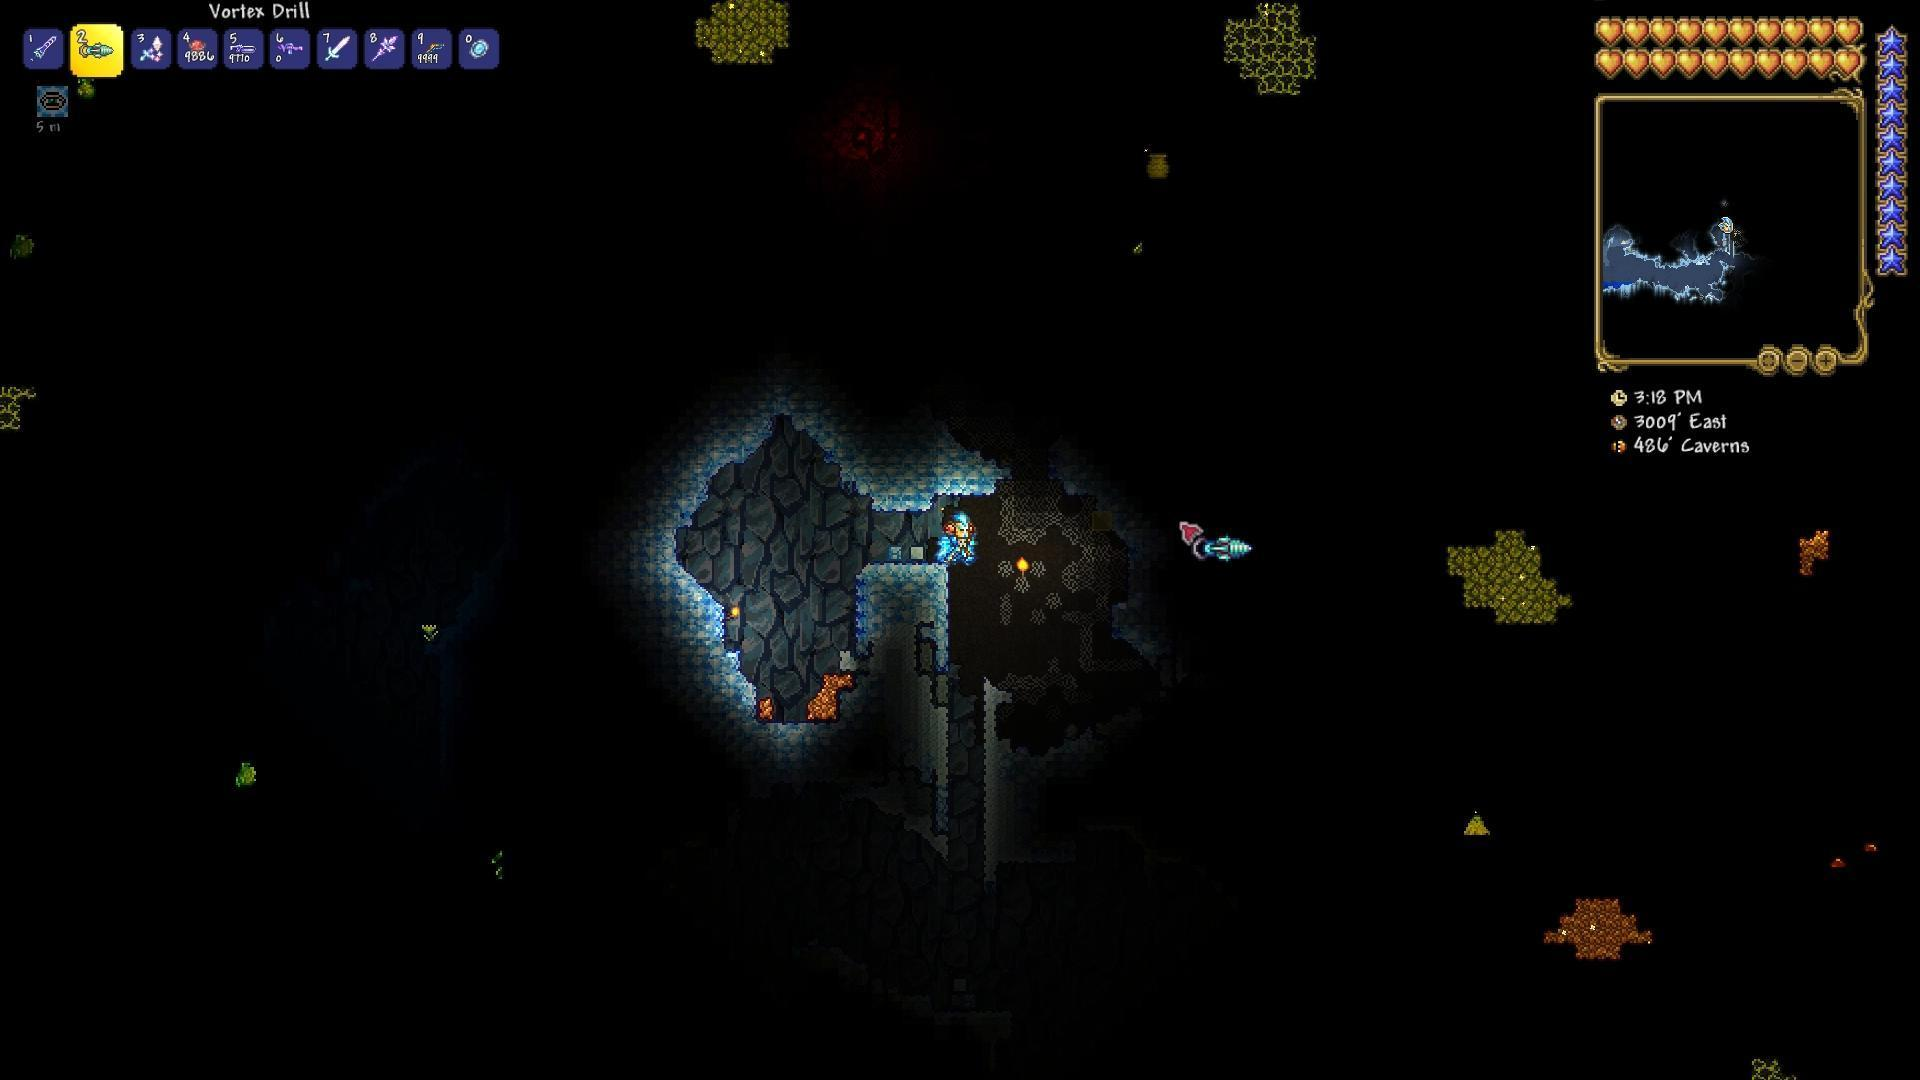cobwebT: (998, 488, 1043, 542), (1062, 559, 1092, 592), (997, 516, 1018, 549), (1000, 592, 1014, 621), (997, 556, 1013, 578), (1031, 560, 1047, 579)
